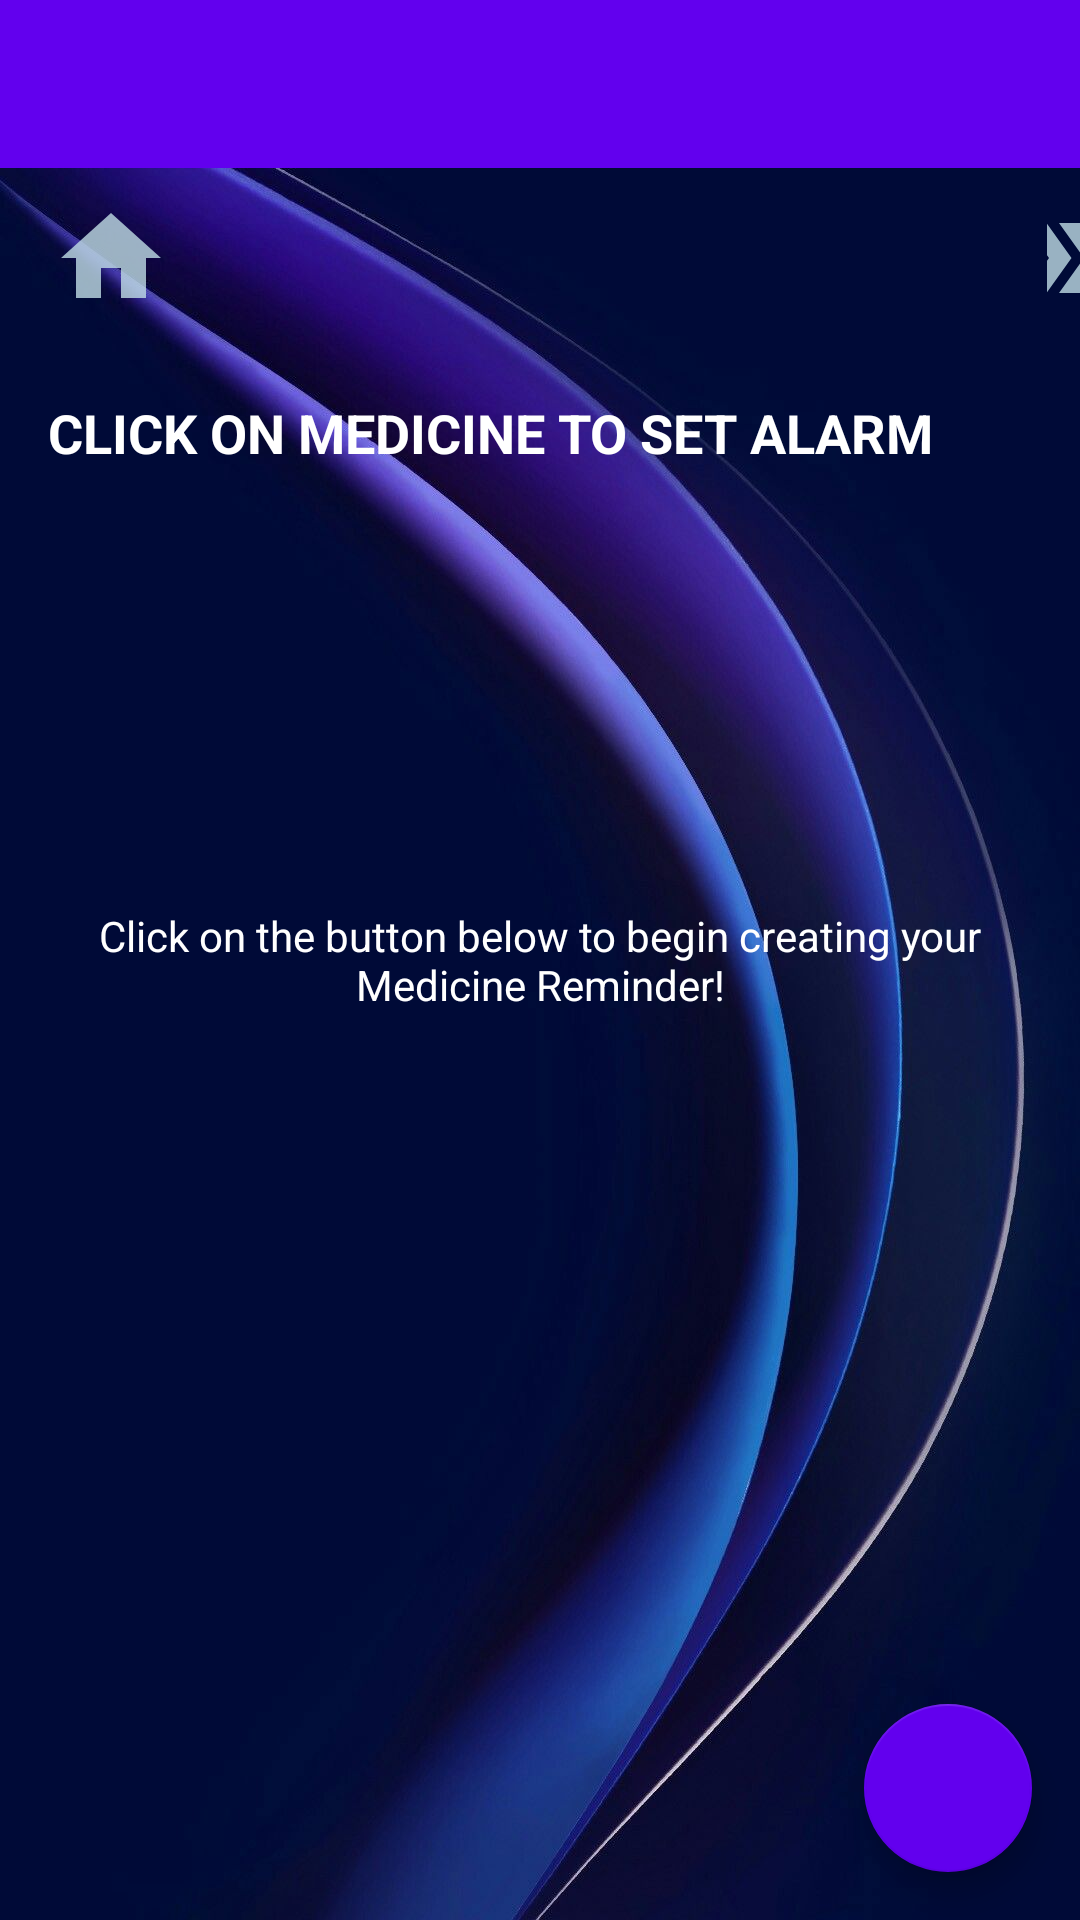

Where to tap for icons on this 1080w x 1920h app screen, as [x,y]:
home: [111,258]
